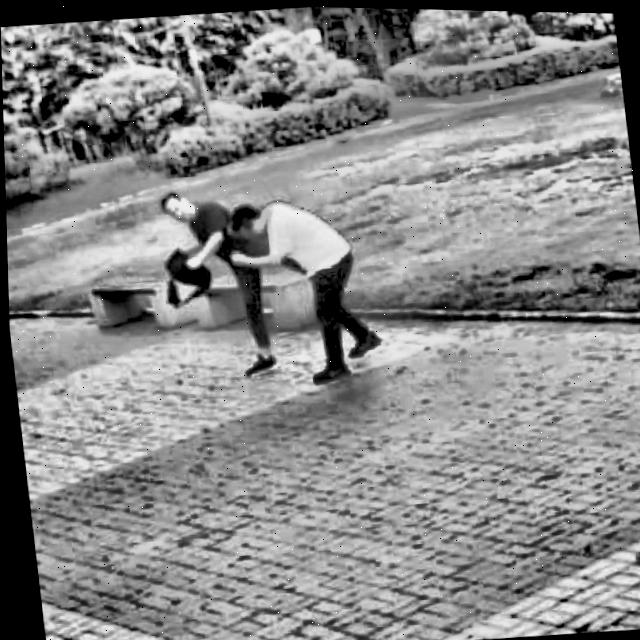robbery: (146, 187, 392, 397)
